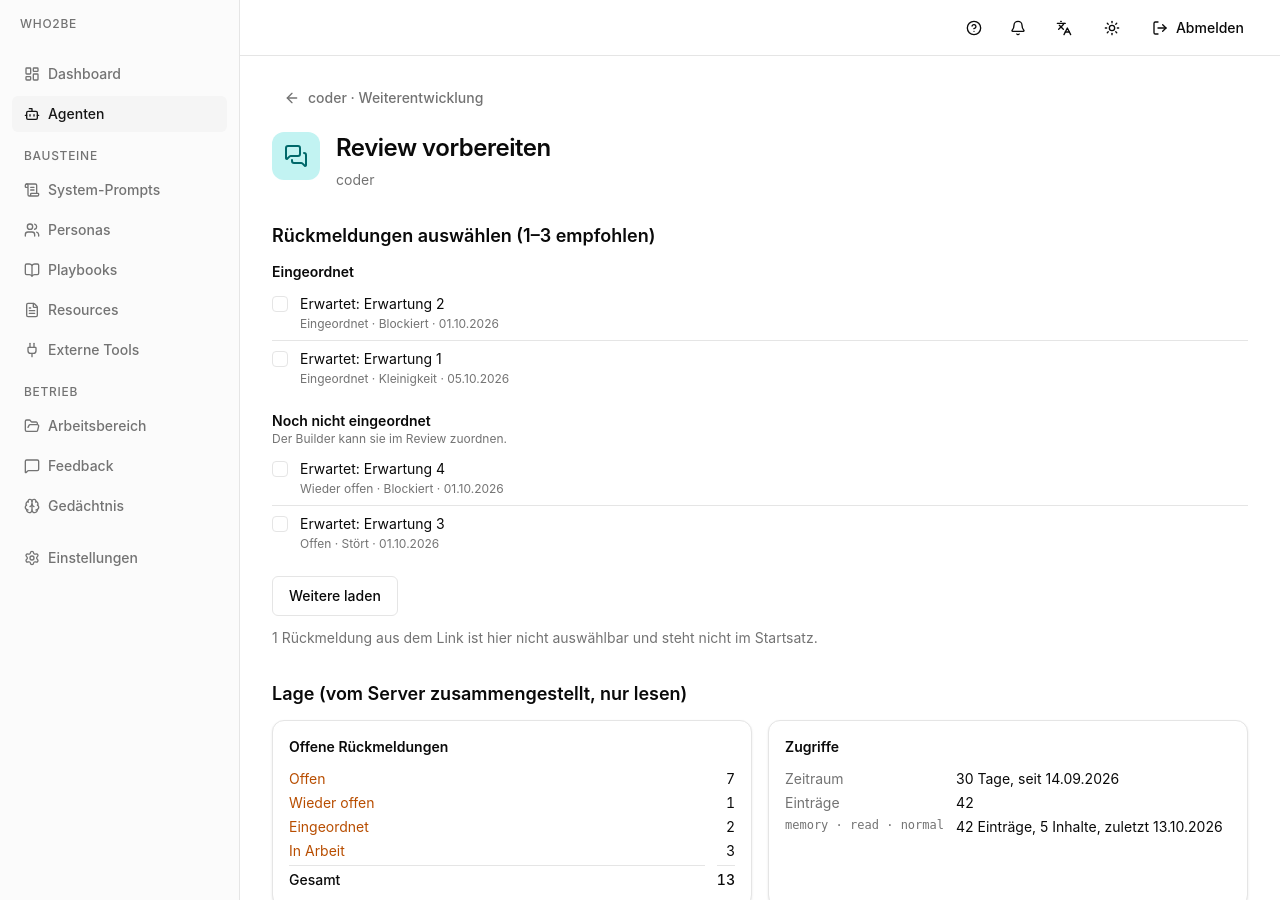
it: ① Rückmeldungen › macht eine vorbelegte ID gueltig, sobald sie per „Weitere laden“ kommt
expect the element with test id "prepare-group-triaged" is shown: met, box [272,262,1248,395]
expect the message with test id "prepare-unresolved" is shown: met, box [272,629,818,646]
Click the button with test id "prepare-load-more".
click(335, 596)  # box [272,576,398,616]
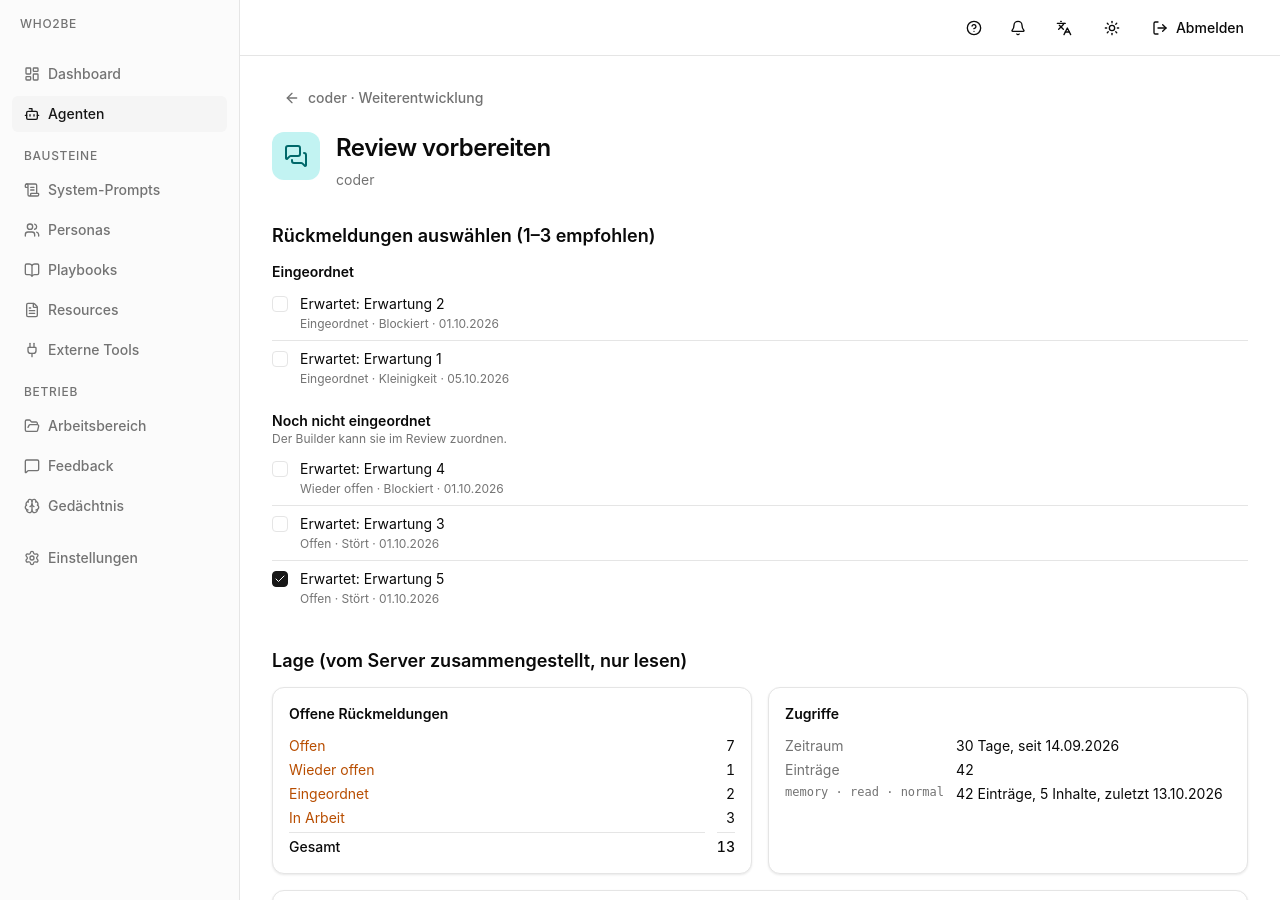
expect the checkbox labelled "Erwartet: Erwartung 5 Offen · Stört · 01.10.2026" is checked: met, box [264,563,296,595]
expect the message with test id "prepare-unresolved" is gone: met
